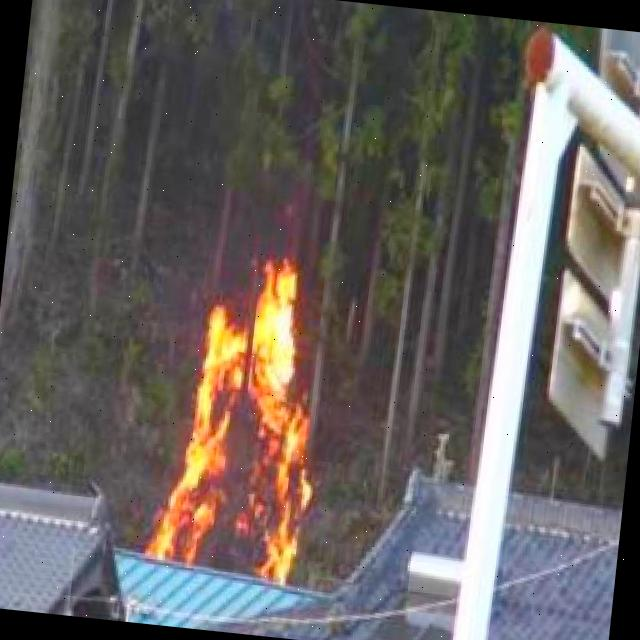fire: (148, 243, 344, 575)
